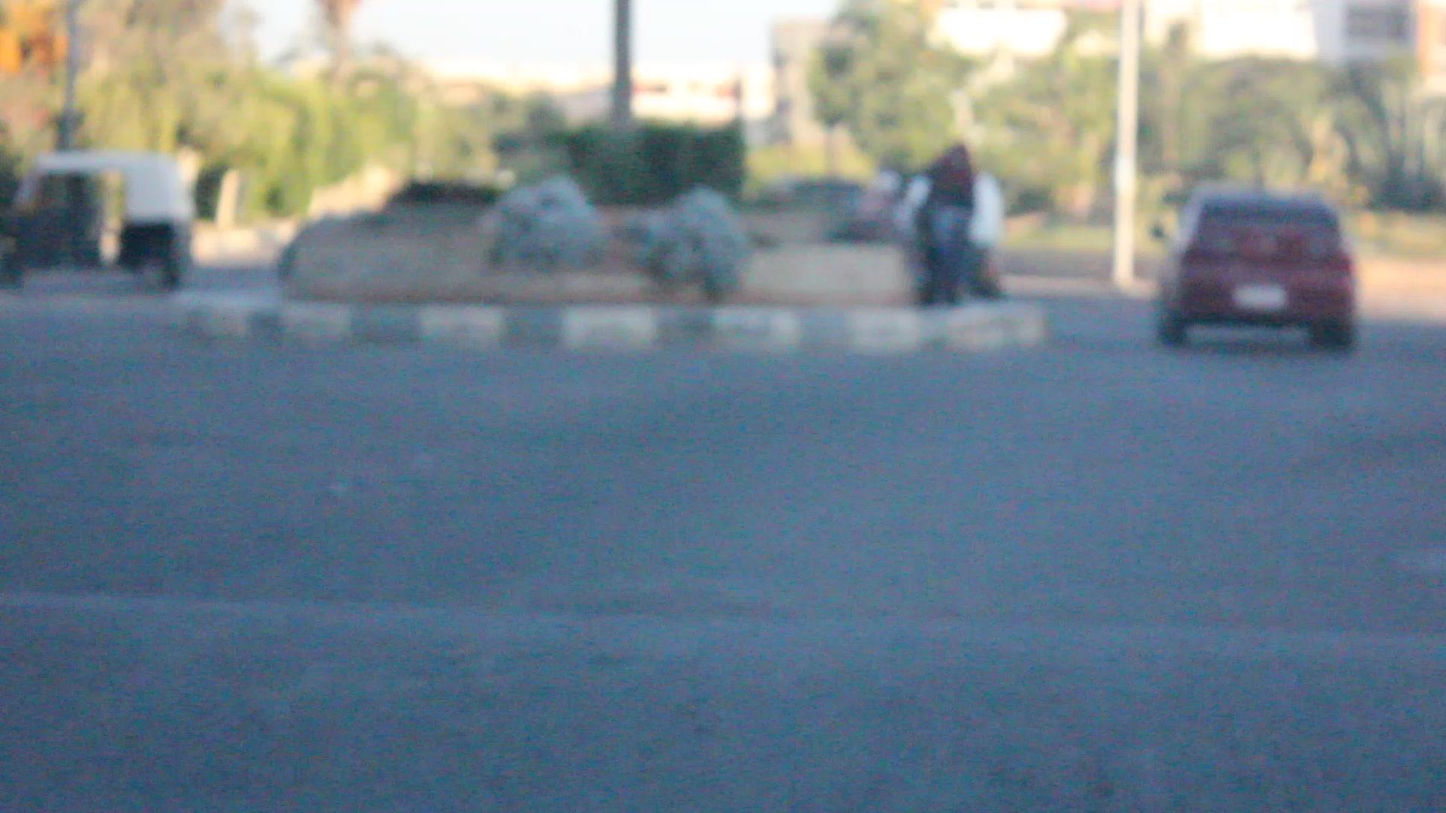Bump: (0, 587, 1446, 813)
